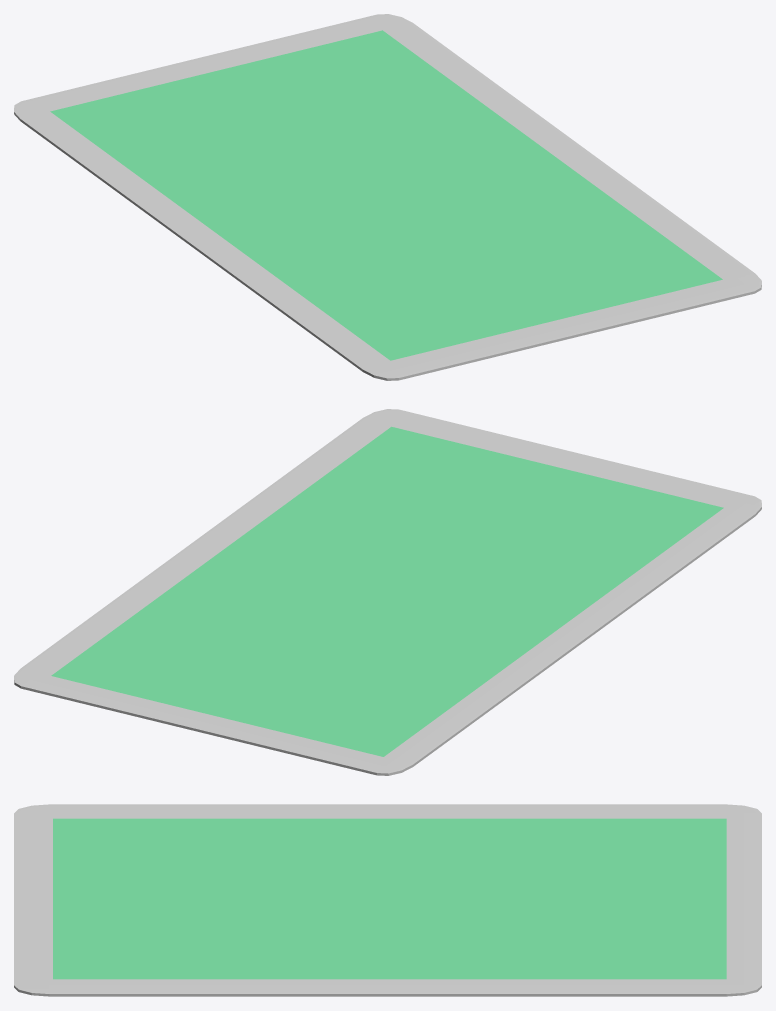
Rendered from Memory_Card.fbx.
3 views of the same model, one above another, from view 1: azimuth 30°, elevation 25°; view 2: azimuth 150°, elevation 25°; view 3: azimuth 270°, elevation 25° (orthographic).
Visible parts, largest first — view 1: Cube; view 2: Cube; view 3: Cube.
Boxes of the visible parts, left/top/right/bottom form: Cube: left=14, top=14, right=761, bottom=380; Cube: left=14, top=409, right=761, bottom=775; Cube: left=14, top=804, right=761, bottom=996.
Bounding box in the file's own units: 300 × 2 × 500.
